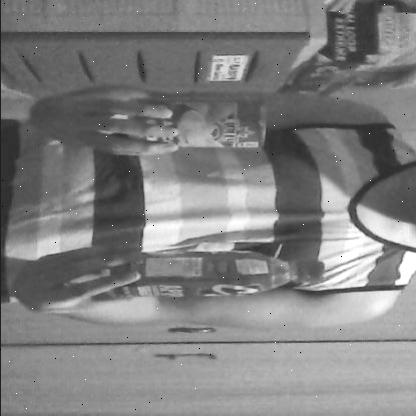Plastic Bottle: (66, 236, 337, 313)
